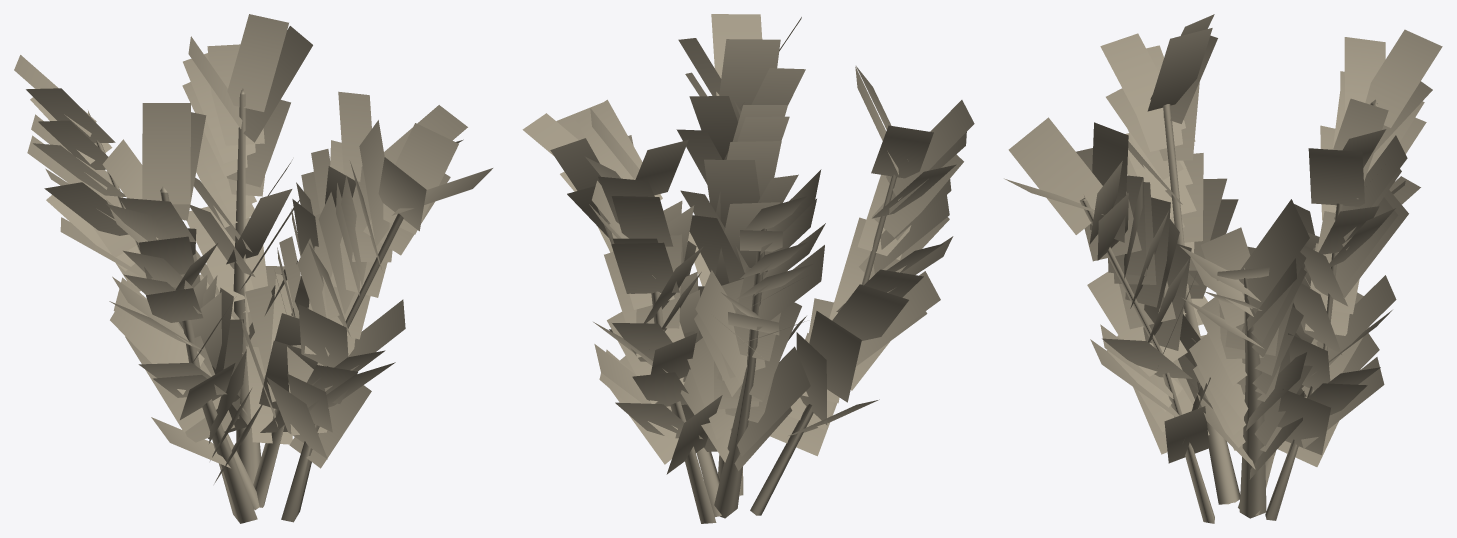
The model's file is SM_IndoorPlant_ZZPlant_01.fbx.
The picture shows the model from 3 angles, left to right: view 1: azimuth 30°, elevation 25°; view 2: azimuth 150°, elevation 25°; view 3: azimuth 270°, elevation 25°; orthographic projection. The views are drawn at different scales.
Parts seen in each view (by area): view 1: S_IndoorPlant_ZZPlant_01; view 2: S_IndoorPlant_ZZPlant_01; view 3: S_IndoorPlant_ZZPlant_01.
Boxes of the visible parts, x1,y1,x2,y2 form: S_IndoorPlant_ZZPlant_01: [14, 14, 492, 523]; S_IndoorPlant_ZZPlant_01: [522, 14, 974, 523]; S_IndoorPlant_ZZPlant_01: [1004, 14, 1442, 523].
Size of the model in its own units: 31.22 by 34.58 by 31.08.
